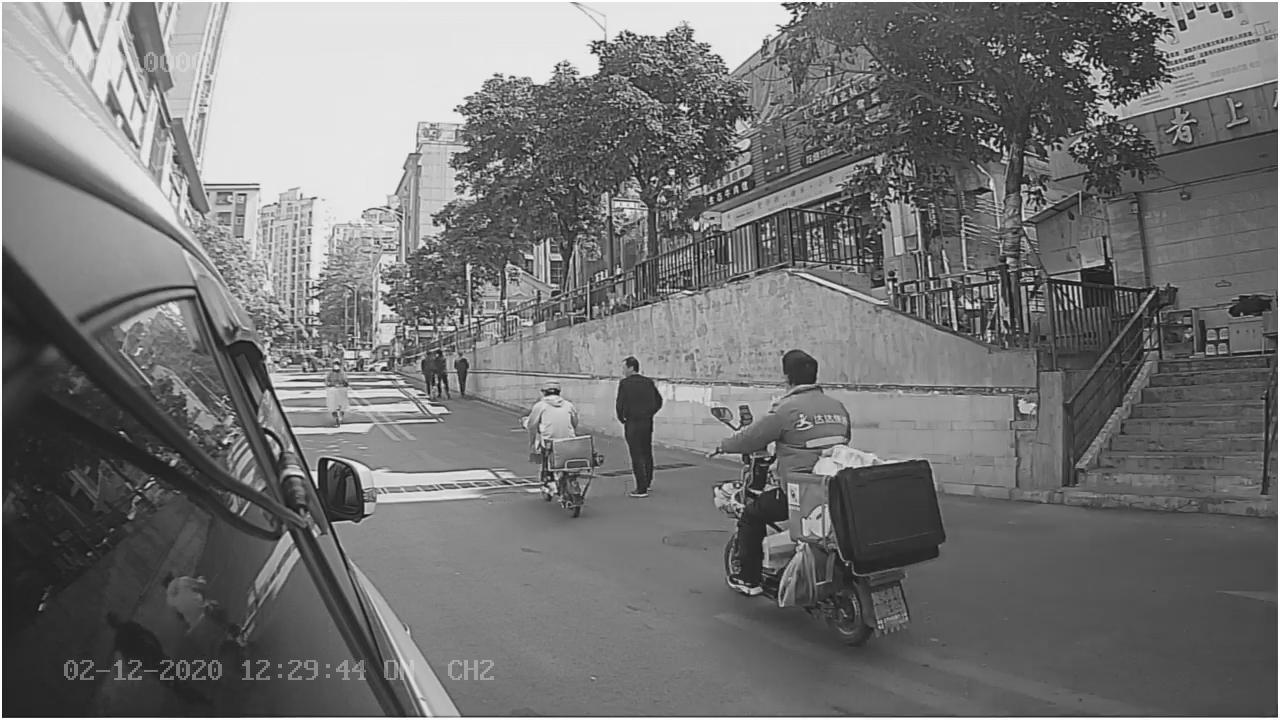person: (717, 348, 854, 453), (602, 346, 678, 510)
